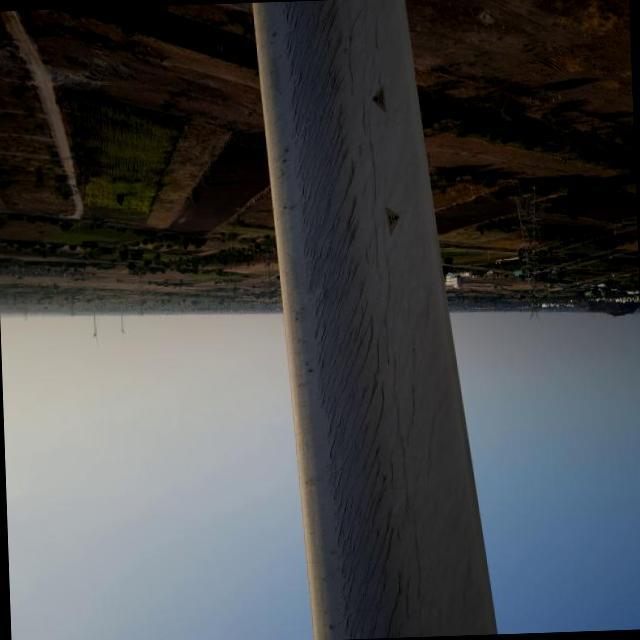Dirt: (266, 5, 463, 640)
Pin Hole: (376, 86, 394, 112), (385, 208, 401, 232)
